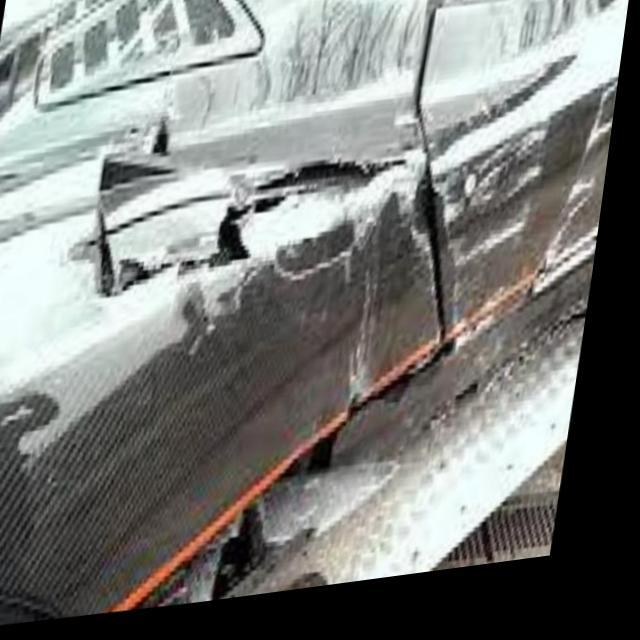crack: (71, 0, 633, 477)
